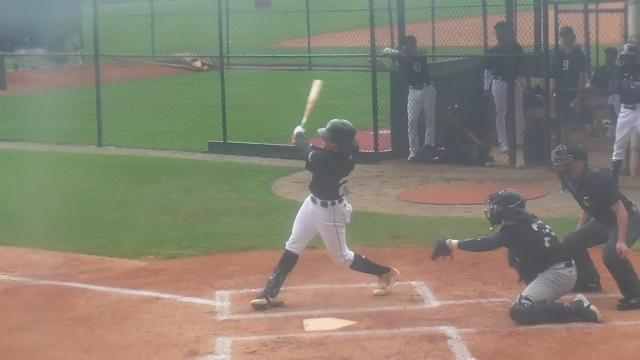baseball bat: (292, 78, 324, 128)
